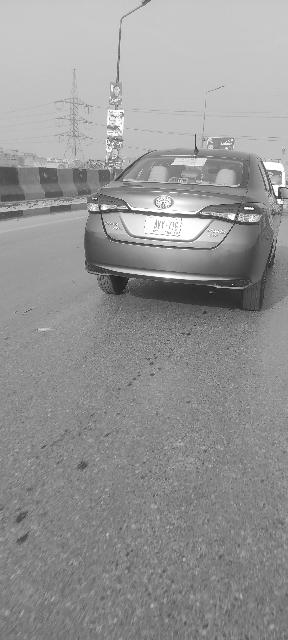Number: (152, 219, 179, 232)
